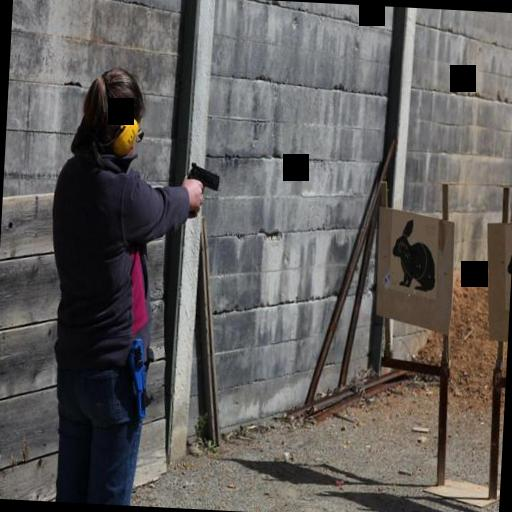Handgun: (181, 156, 223, 212)
